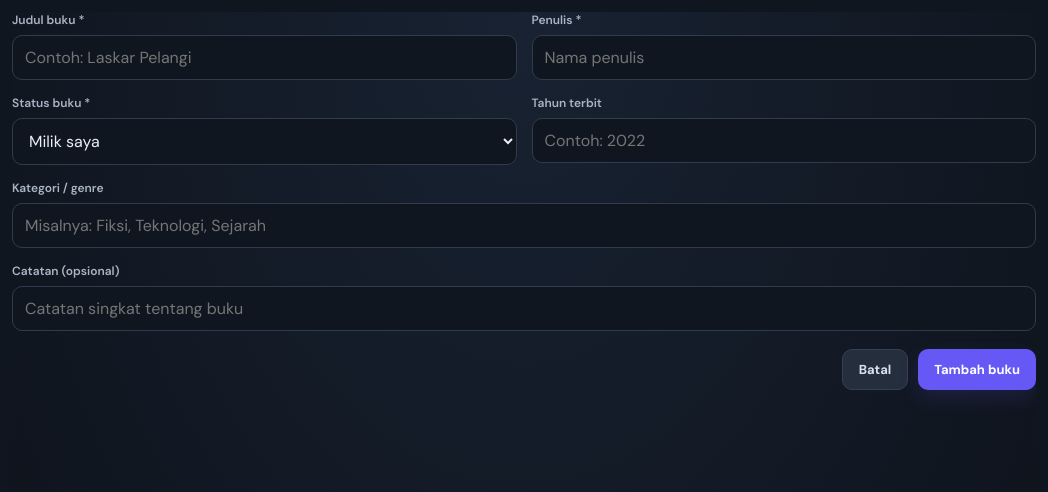
Test: BookForm › menolak tahun terbit yang tidak valid
The width and height of the screenshot is (1048, 492).
Type "Buku Uji" into the field labelled "Judul buku *" at (264, 58), box [12, 35, 516, 80]
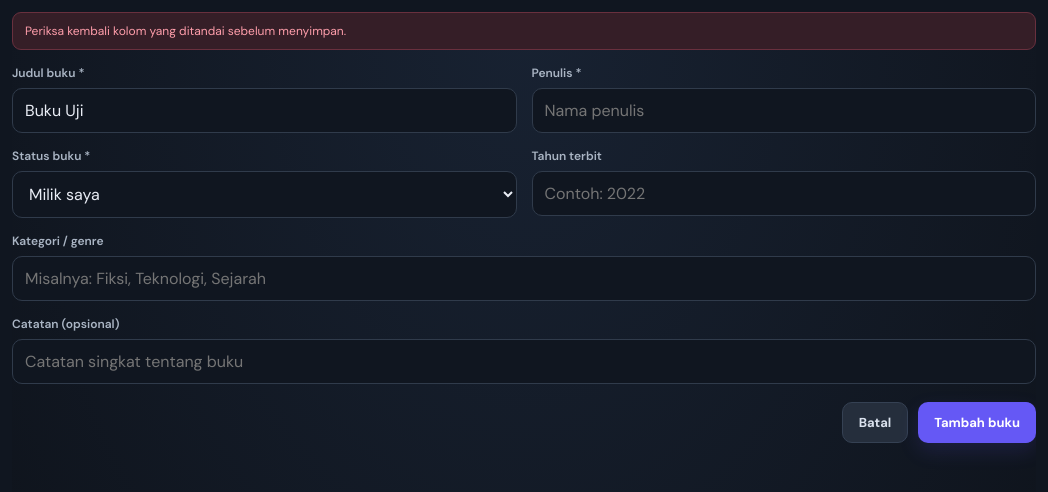
Type "Penulis Uji" into the field labelled "Penulis *" at (784, 110), box [532, 88, 1036, 133]
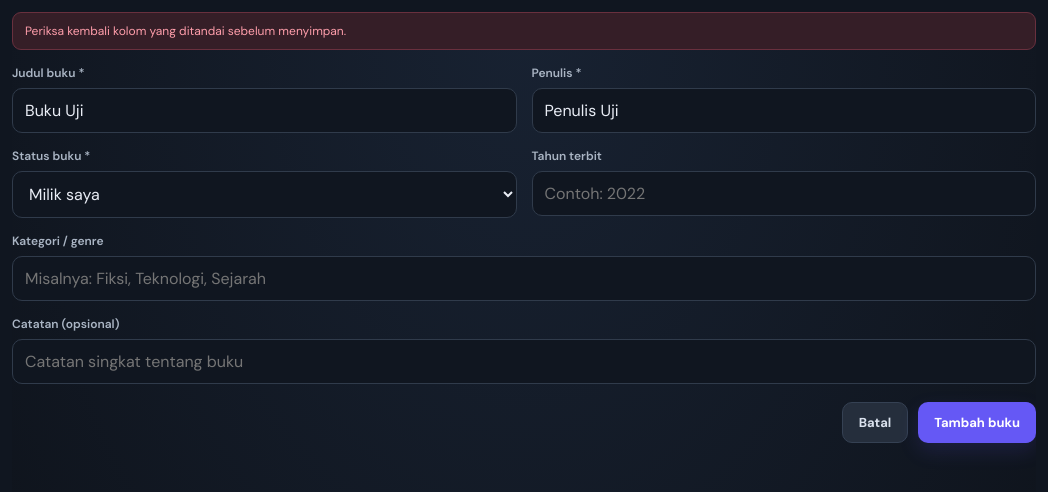
Type "abc" into the field labelled "Tahun terbit" at (784, 194), box [532, 171, 1036, 216]
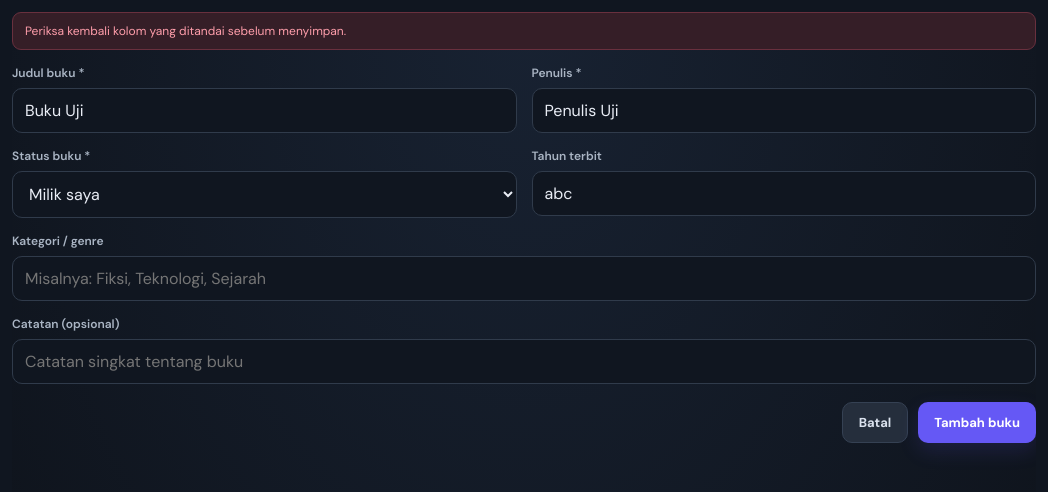
Click the button "Tambah buku" at (977, 422), box [918, 402, 1036, 443]
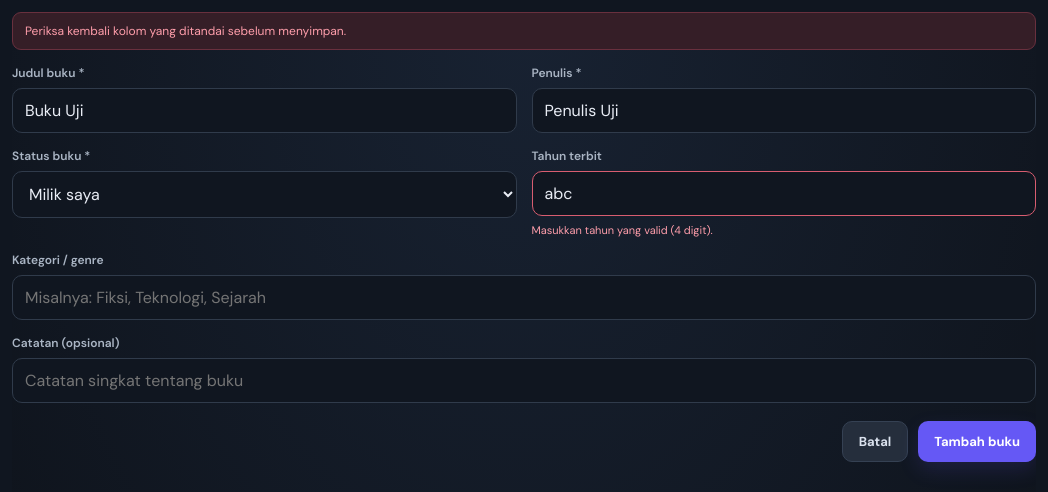
Expected: the text "Masukkan tahun yang valid (4 digit)." is shown, [532, 223, 713, 237]
